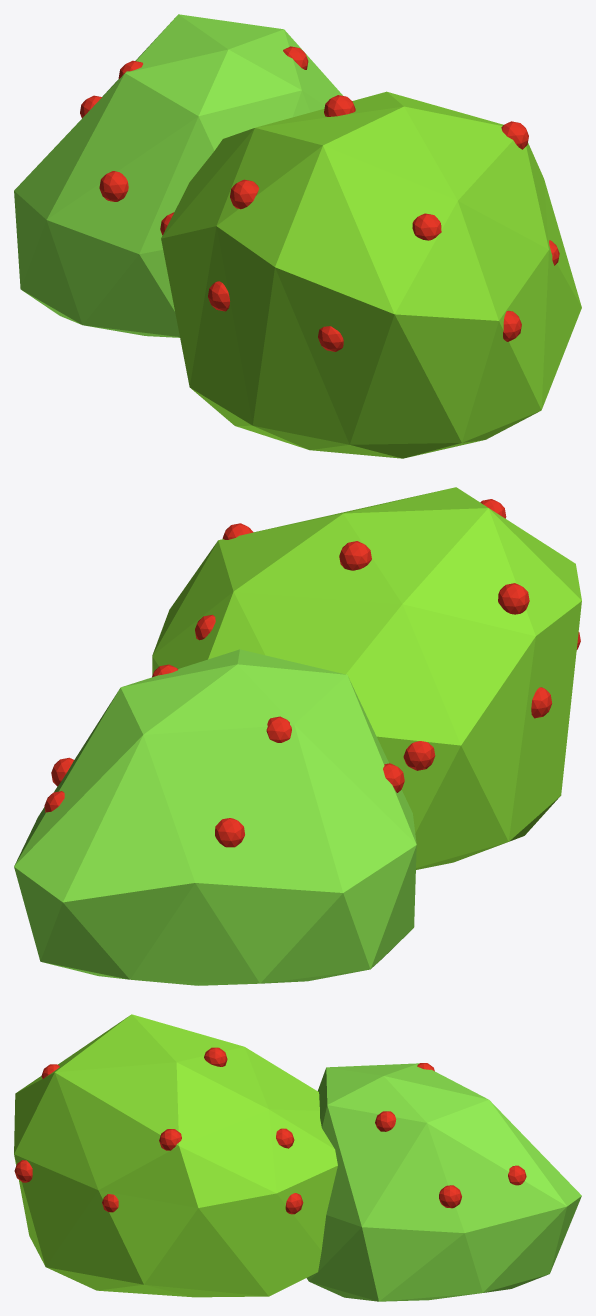
File: Bushes.fbx
The picture shows the model from 3 angles, top to bottom: view 1: azimuth 30°, elevation 25°; view 2: azimuth 150°, elevation 25°; view 3: azimuth 270°, elevation 25°; orthographic projection. The views are drawn at different scales.
Parts seen in each view (by area): view 1: Esfera geodésica, Esta no, Esfera geodésica.017, Esfera geodésica.002, Esfera geodésica.004; view 2: Esta no, Esfera geodésica, Esfera geodésica.002, Esfera geodésica.001, Esfera geodésica.007, Esfera geodésica.014; view 3: Esfera geodésica, Esta no, Esfera geodésica.012, Esfera geodésica.003.
Boxes of the visible parts, x1=… form: Esfera geodésica: x1=161, y1=91, x2=581, y2=458; Esta no: x1=14, y1=14, x2=342, y2=337; Esfera geodésica.017: x1=99, y1=171, x2=128, y2=201; Esfera geodésica.002: x1=230, y1=179, x2=259, y2=209; Esfera geodésica.004: x1=412, y1=213, x2=441, y2=240; Esta no: x1=14, y1=649, x2=416, y2=985; Esfera geodésica: x1=152, y1=487, x2=581, y2=869; Esfera geodésica.002: x1=498, y1=583, x2=529, y2=614; Esfera geodésica.001: x1=339, y1=541, x2=371, y2=570; Esfera geodésica.007: x1=403, y1=741, x2=435, y2=770; Esfera geodésica.014: x1=215, y1=818, x2=244, y2=847; Esfera geodésica: x1=14, y1=1014, x2=337, y2=1297; Esta no: x1=306, y1=1063, x2=581, y2=1301; Esfera geodésica.012: x1=439, y1=1185, x2=461, y2=1208; Esfera geodésica.003: x1=159, y1=1129, x2=181, y2=1150.
Bounding box in the file's own units: 734 × 541 × 1312.
